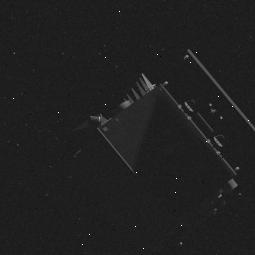proba_2: (71, 40, 253, 244)
